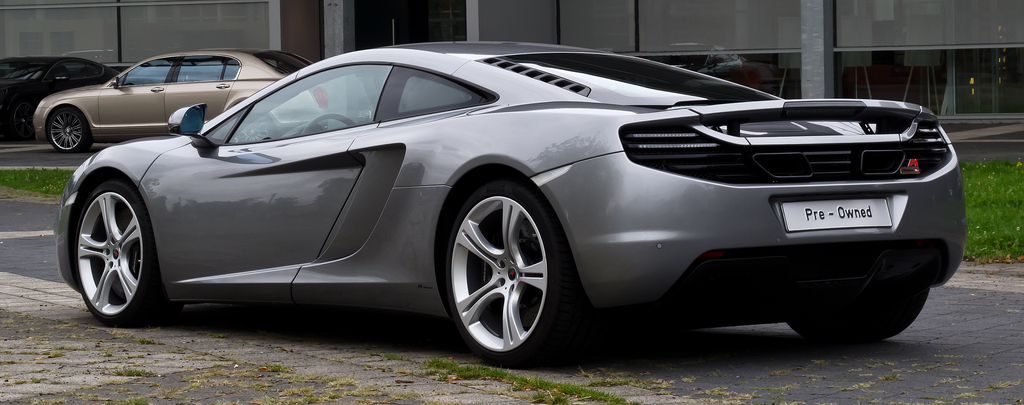cars: (55, 23, 965, 371), (31, 47, 354, 153), (0, 59, 119, 135), (74, 61, 151, 76)
